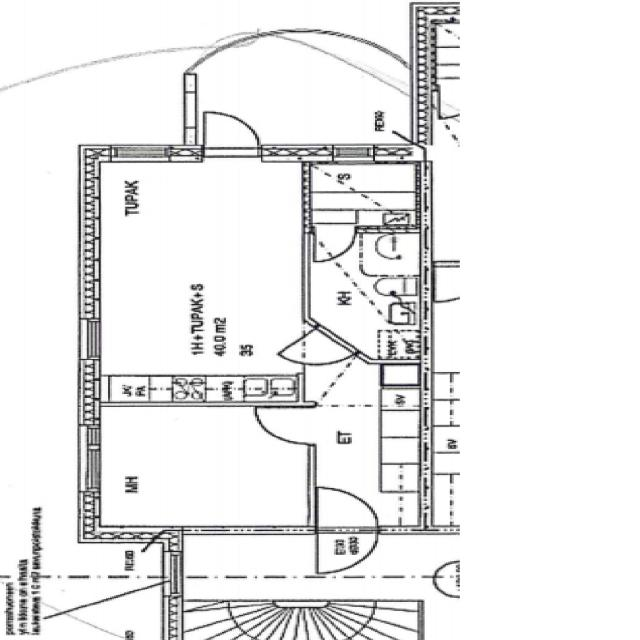door: (275, 324, 361, 382), (204, 106, 258, 158), (320, 491, 375, 534), (320, 528, 375, 570), (256, 409, 316, 444), (315, 225, 356, 261)
